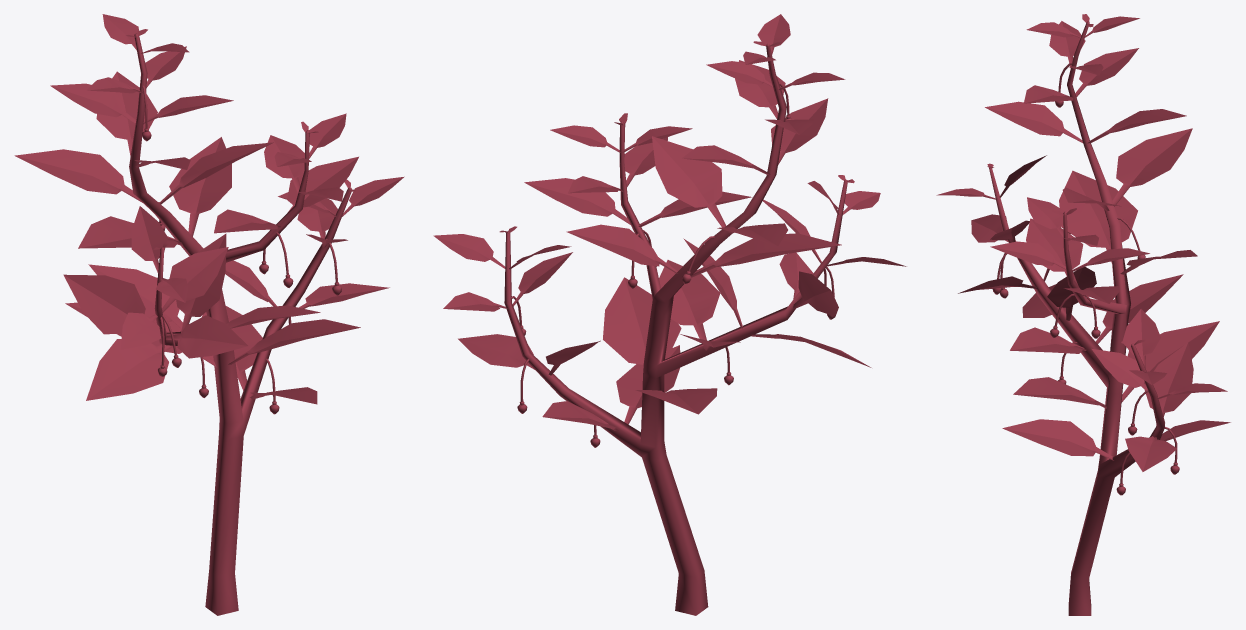
The model's file is SM_Blooddrop_Growing4.fbx.
3 views of the same model, side by side, from view 1: azimuth 30°, elevation 25°; view 2: azimuth 150°, elevation 25°; view 3: azimuth 270°, elevation 25° (orthographic). The views are drawn at different scales.
Visible parts, largest first — view 1: SM_Blooddrop_Growing4; view 2: SM_Blooddrop_Growing4; view 3: SM_Blooddrop_Growing4.
Boxes of the visible parts, x1=… form: SM_Blooddrop_Growing4: x1=14, y1=14, x2=404, y2=615; SM_Blooddrop_Growing4: x1=433, y1=14, x2=906, y2=615; SM_Blooddrop_Growing4: x1=936, y1=14, x2=1230, y2=615.
Bounding box in the file's own units: 55.38 × 82.49 × 39.84.
